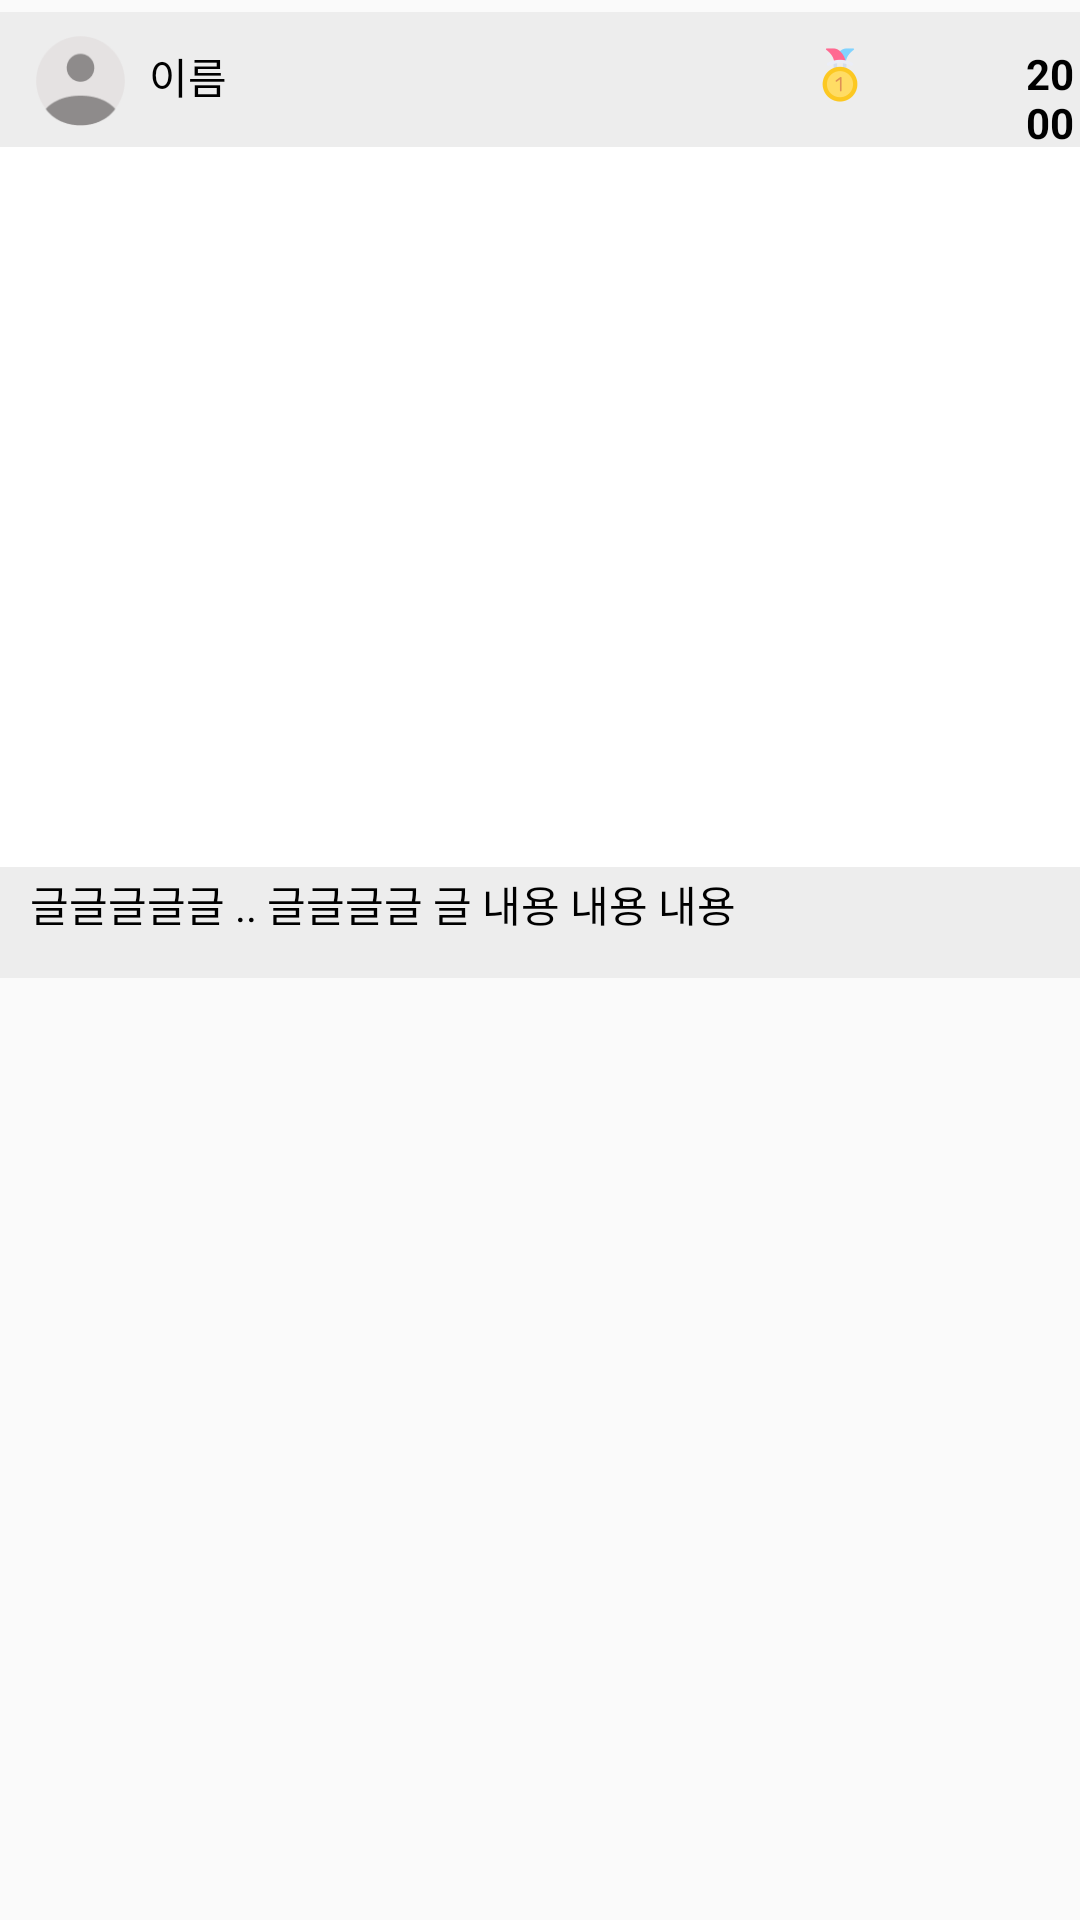

Icon bounding boxes for this 1080 × 1920 phone screenshot, format (x1, y1, x2, y2):
profile: (36, 36, 125, 126)
rank: (822, 48, 858, 102)
